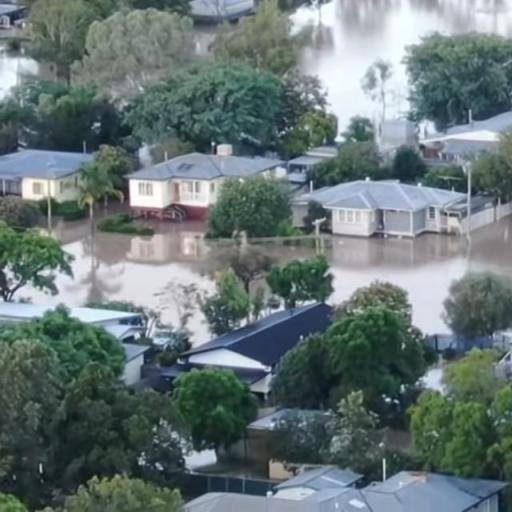flood: (292, 0, 512, 131), (15, 221, 238, 326), (322, 216, 512, 334), (0, 52, 38, 100), (253, 238, 315, 264), (194, 24, 218, 58), (184, 452, 216, 472)
house: (313, 176, 464, 250), (130, 153, 216, 209), (8, 151, 78, 205), (186, 343, 269, 377), (121, 318, 153, 376)
